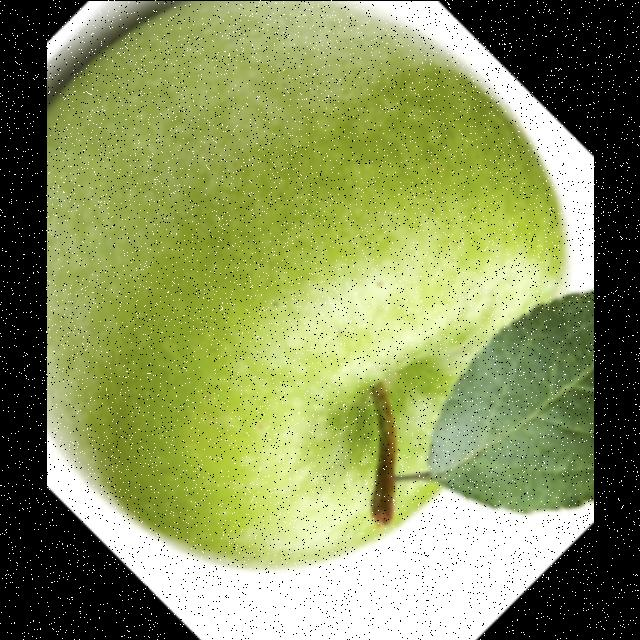Apel Segar: (48, 0, 570, 576)
